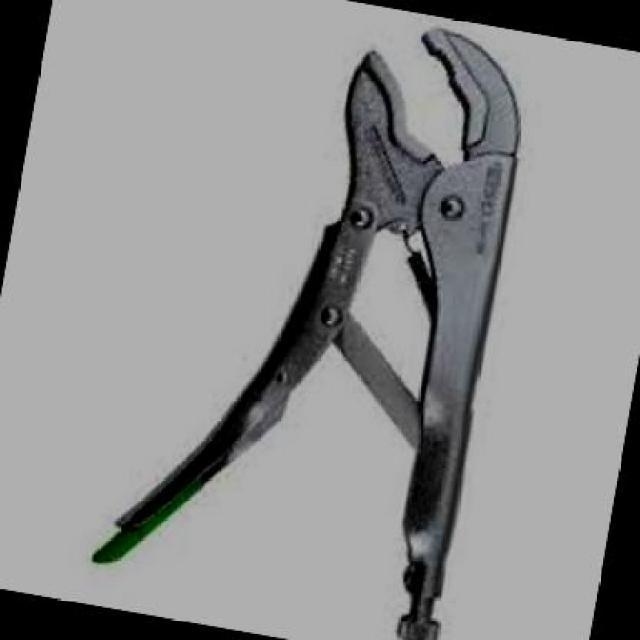pliers: (44, 0, 572, 638)
